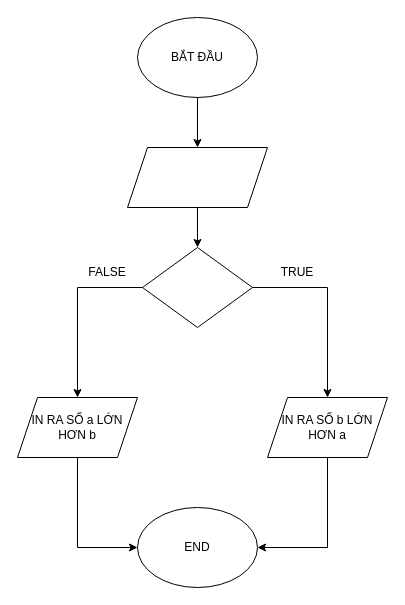
This 405x605 diagram has some shape labels left out. The shapes that lost their labels are listed below. From the top down, each one's centre as x and y in pixels, then its label:
At point (197, 177): "NHẬP 2 SỐ BẤT KÌ a b".
At point (197, 287): "KIỂM TRA a<b".
